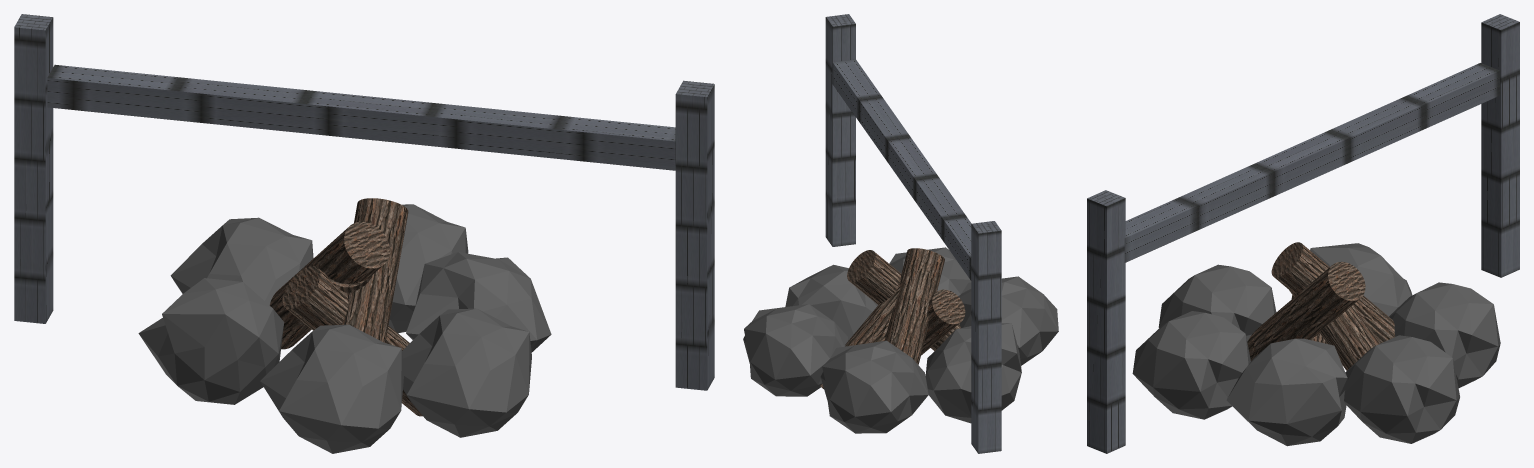
The model's file is campfire.glb.
3 views of the same model, side by side, from view 1: azimuth 30°, elevation 25°; view 2: azimuth 150°, elevation 25°; view 3: azimuth 270°, elevation 25° (orthographic). The views are drawn at different scales.
Parts seen in each view (by area): view 1: Cube.001, Icosphere.003, Icosphere.004, Icosphere.005, Cube, Cube.002, Icosphere.002, Icosphere.001, Cylinder.001, Icosphere, Cylinder.002, Cylinder; view 2: Cube.001, Icosphere.001, Cube.002, Icosphere, Cube, Icosphere.005, Cylinder.002, Icosphere.003, Icosphere.002, Cylinder.001, Cylinder, Cylinder.003 (+1 smaller); view 3: Cube.001, Cube, Icosphere.002, Icosphere, Cube.002, Icosphere.004, Icosphere.001, Icosphere.003, Cylinder.001, Icosphere.005, Cylinder.002, Cylinder.003.
Boxes of the visible parts, box(x1,y1,x2,y2) form: Cube.001: box(47, 64, 675, 170); Icosphere.003: box(260, 324, 403, 453); Icosphere.004: box(402, 308, 531, 437); Icosphere.005: box(138, 278, 284, 404); Cube: box(675, 80, 714, 390); Cube.002: box(14, 14, 53, 323); Icosphere.002: box(406, 252, 551, 352); Icosphere.001: box(170, 217, 313, 304); Cylinder.001: box(341, 198, 408, 342); Icosphere: box(388, 204, 468, 333); Cylinder.002: box(269, 221, 389, 349); Cylinder: box(282, 266, 422, 416); Cube.001: box(832, 59, 971, 280); Icosphere.001: box(820, 340, 928, 433); Cube.002: box(971, 221, 1001, 453); Icosphere: box(743, 304, 848, 396); Cube: box(825, 14, 855, 246); Icosphere.005: box(925, 323, 1021, 423); Cylinder.002: box(884, 248, 944, 364); Icosphere.003: box(958, 276, 1058, 365); Icosphere.002: box(785, 264, 877, 340); Cylinder.001: box(847, 250, 960, 351); Cylinder: box(921, 289, 965, 355); Cylinder.003: box(820, 283, 935, 388); Cube.001: box(1124, 63, 1500, 262); Cube: box(1087, 190, 1125, 453); Icosphere.002: box(1226, 338, 1348, 446); Icosphere: box(1344, 335, 1459, 443); Cube.002: box(1481, 14, 1519, 277); Icosphere.004: box(1132, 311, 1250, 419); Icosphere.001: box(1389, 282, 1500, 387); Icosphere.003: box(1158, 264, 1276, 341); Cylinder.001: box(1247, 261, 1365, 360); Icosphere.005: box(1310, 243, 1412, 316); Cylinder.002: box(1271, 242, 1395, 343); Cylinder.003: box(1289, 290, 1380, 370).
Bounding box in the file's own units: 0.5943 × 0.4444 × 0.5652.
8 materials, 2 textured.
